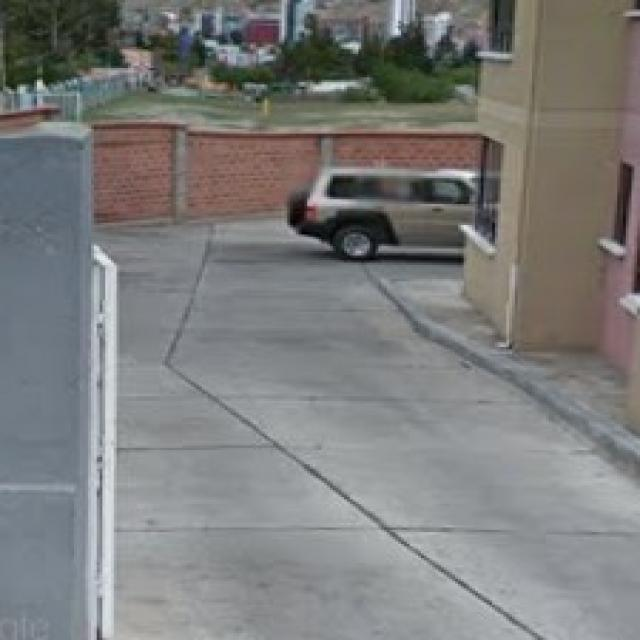cars: (291, 158, 488, 266)
